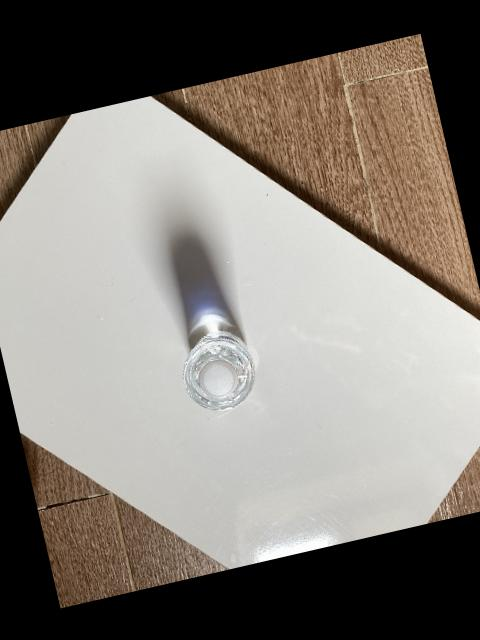aquafina: (182, 329, 255, 410)
